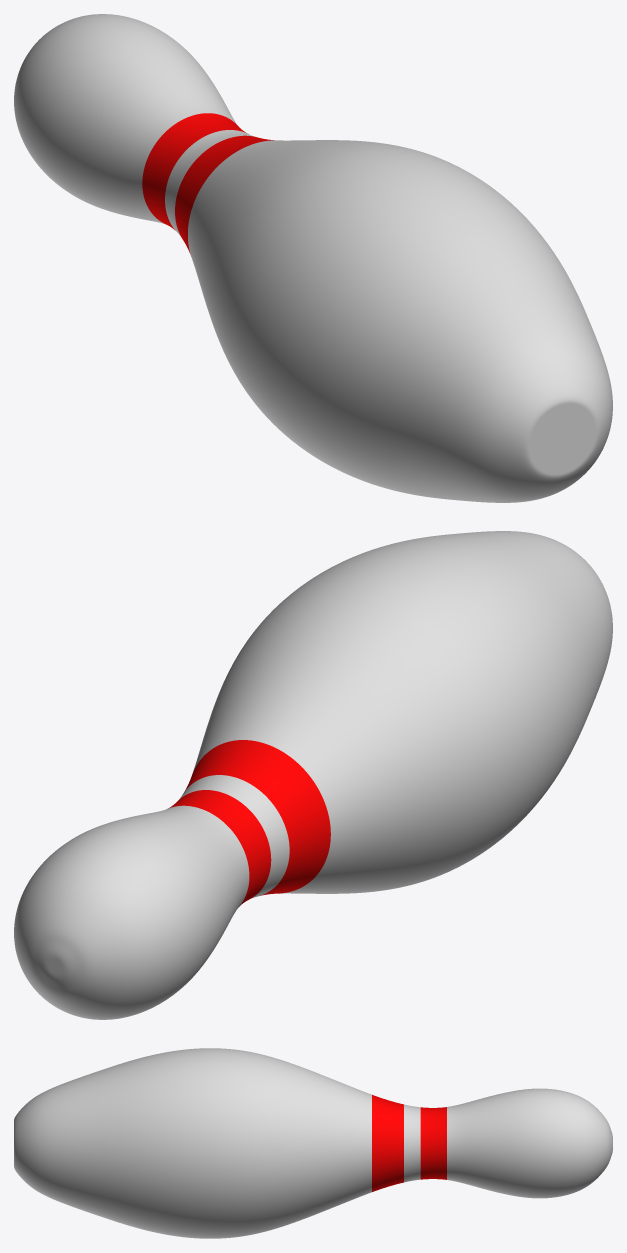
Rendered from Pin.fbx.
3 views of the same model, one above another, from view 1: azimuth 30°, elevation 25°; view 2: azimuth 150°, elevation 25°; view 3: azimuth 270°, elevation 25° (orthographic). The views are drawn at different scales.
Parts seen in each view (by area): view 1: Pin; view 2: Pin; view 3: Pin.
Part boxes in pixels (<box>): Pin: <box>14,14,612,502</box>; Pin: <box>14,531,612,1019</box>; Pin: <box>14,1048,612,1238</box>.
Size of the model in its own units: 157 by 157 by 492.
